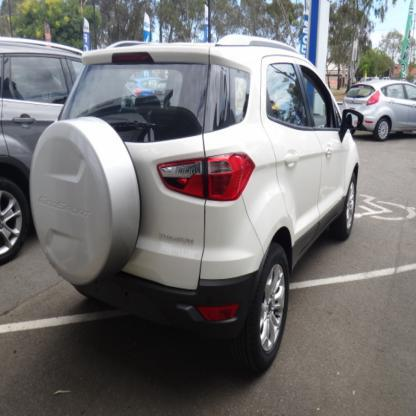car: (38, 40, 350, 381), (1, 31, 146, 267), (342, 80, 416, 141), (129, 75, 156, 100), (155, 77, 168, 101)
